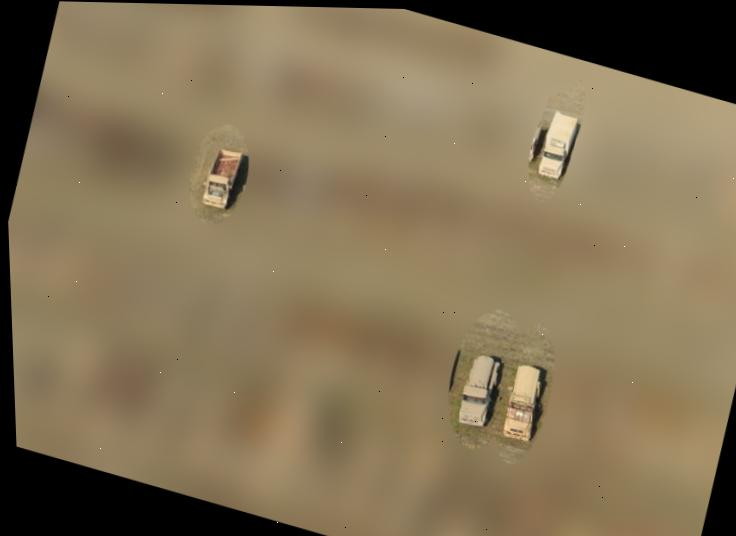truck: (492, 356, 555, 451), (449, 348, 507, 436), (523, 104, 583, 189), (191, 136, 252, 218)
